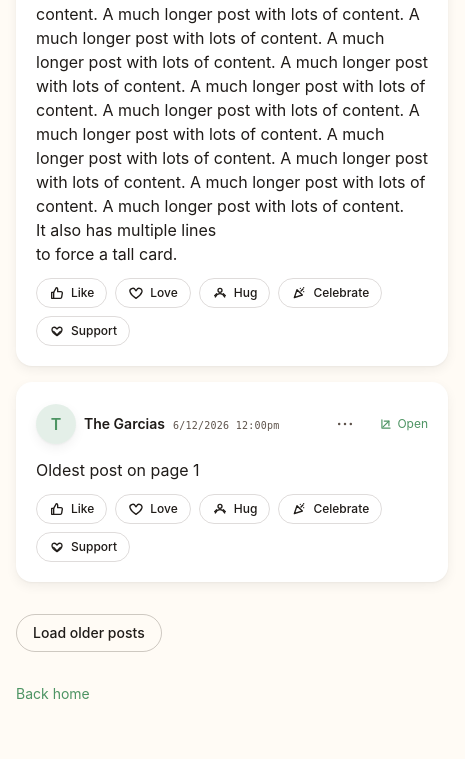
FeedPage › loads older posts when "Load older posts" is clicked, preserving newest-first order
This screenshot has width=465, height=759.
(page scrolled)
What coordinates should you click on to do the following:
click the button "Load older posts"
I would click on:
 (89, 633)
Its box is x1=16 y1=614 x2=162 y2=652.
(page scrolled)
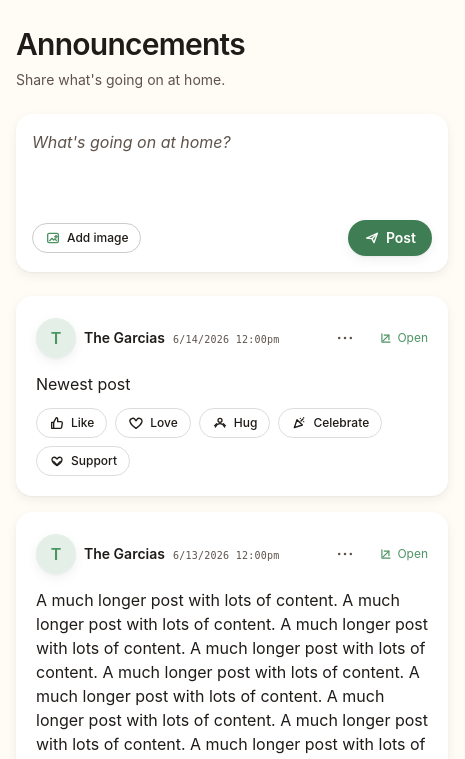
Expected: the text "Newest post" is shown, x1=36 y1=374 x2=130 y2=394
Now the button "Load older posts" is gone
